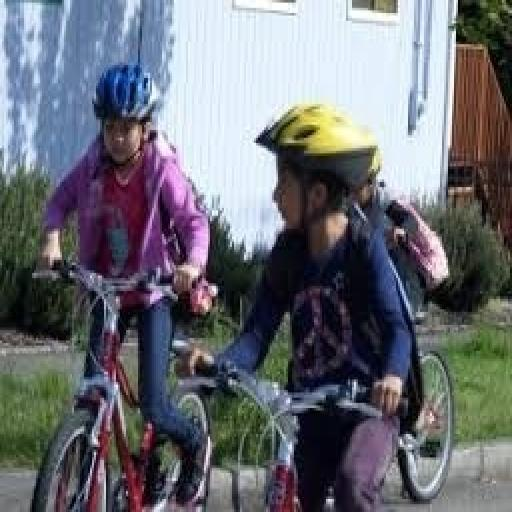cycling: (186, 99, 420, 509), (32, 60, 218, 509)
